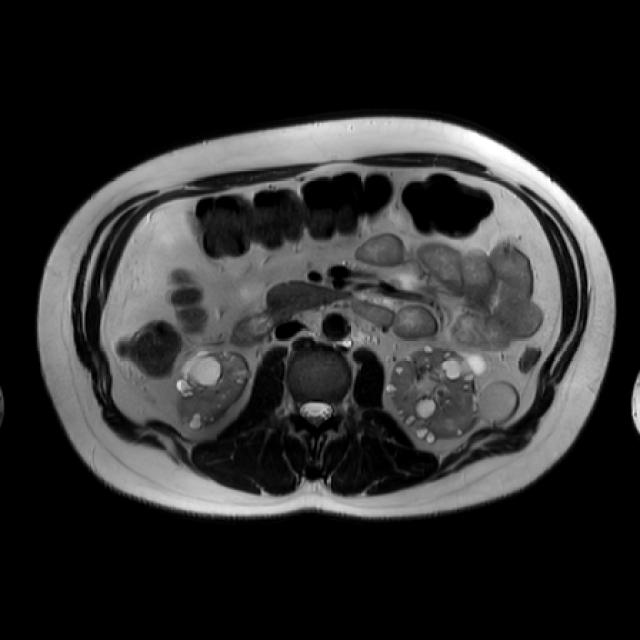sag: (176, 353, 251, 428)
sol: (389, 346, 520, 443)
